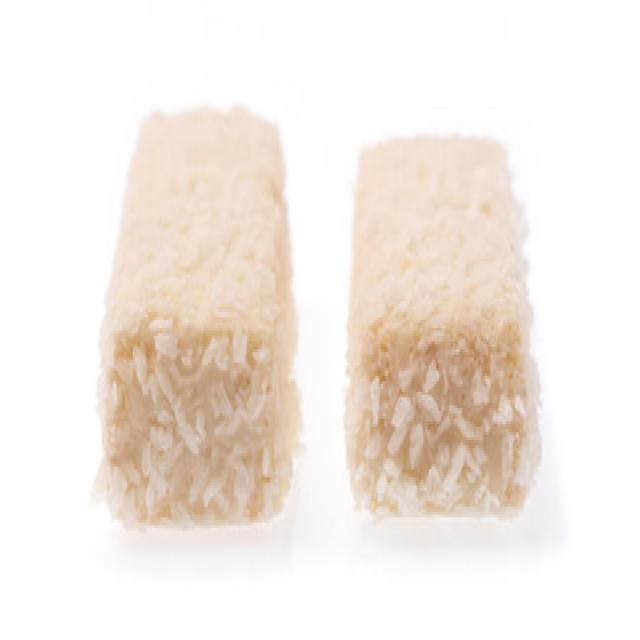Chocolate: (94, 97, 305, 538), (340, 135, 550, 522)
